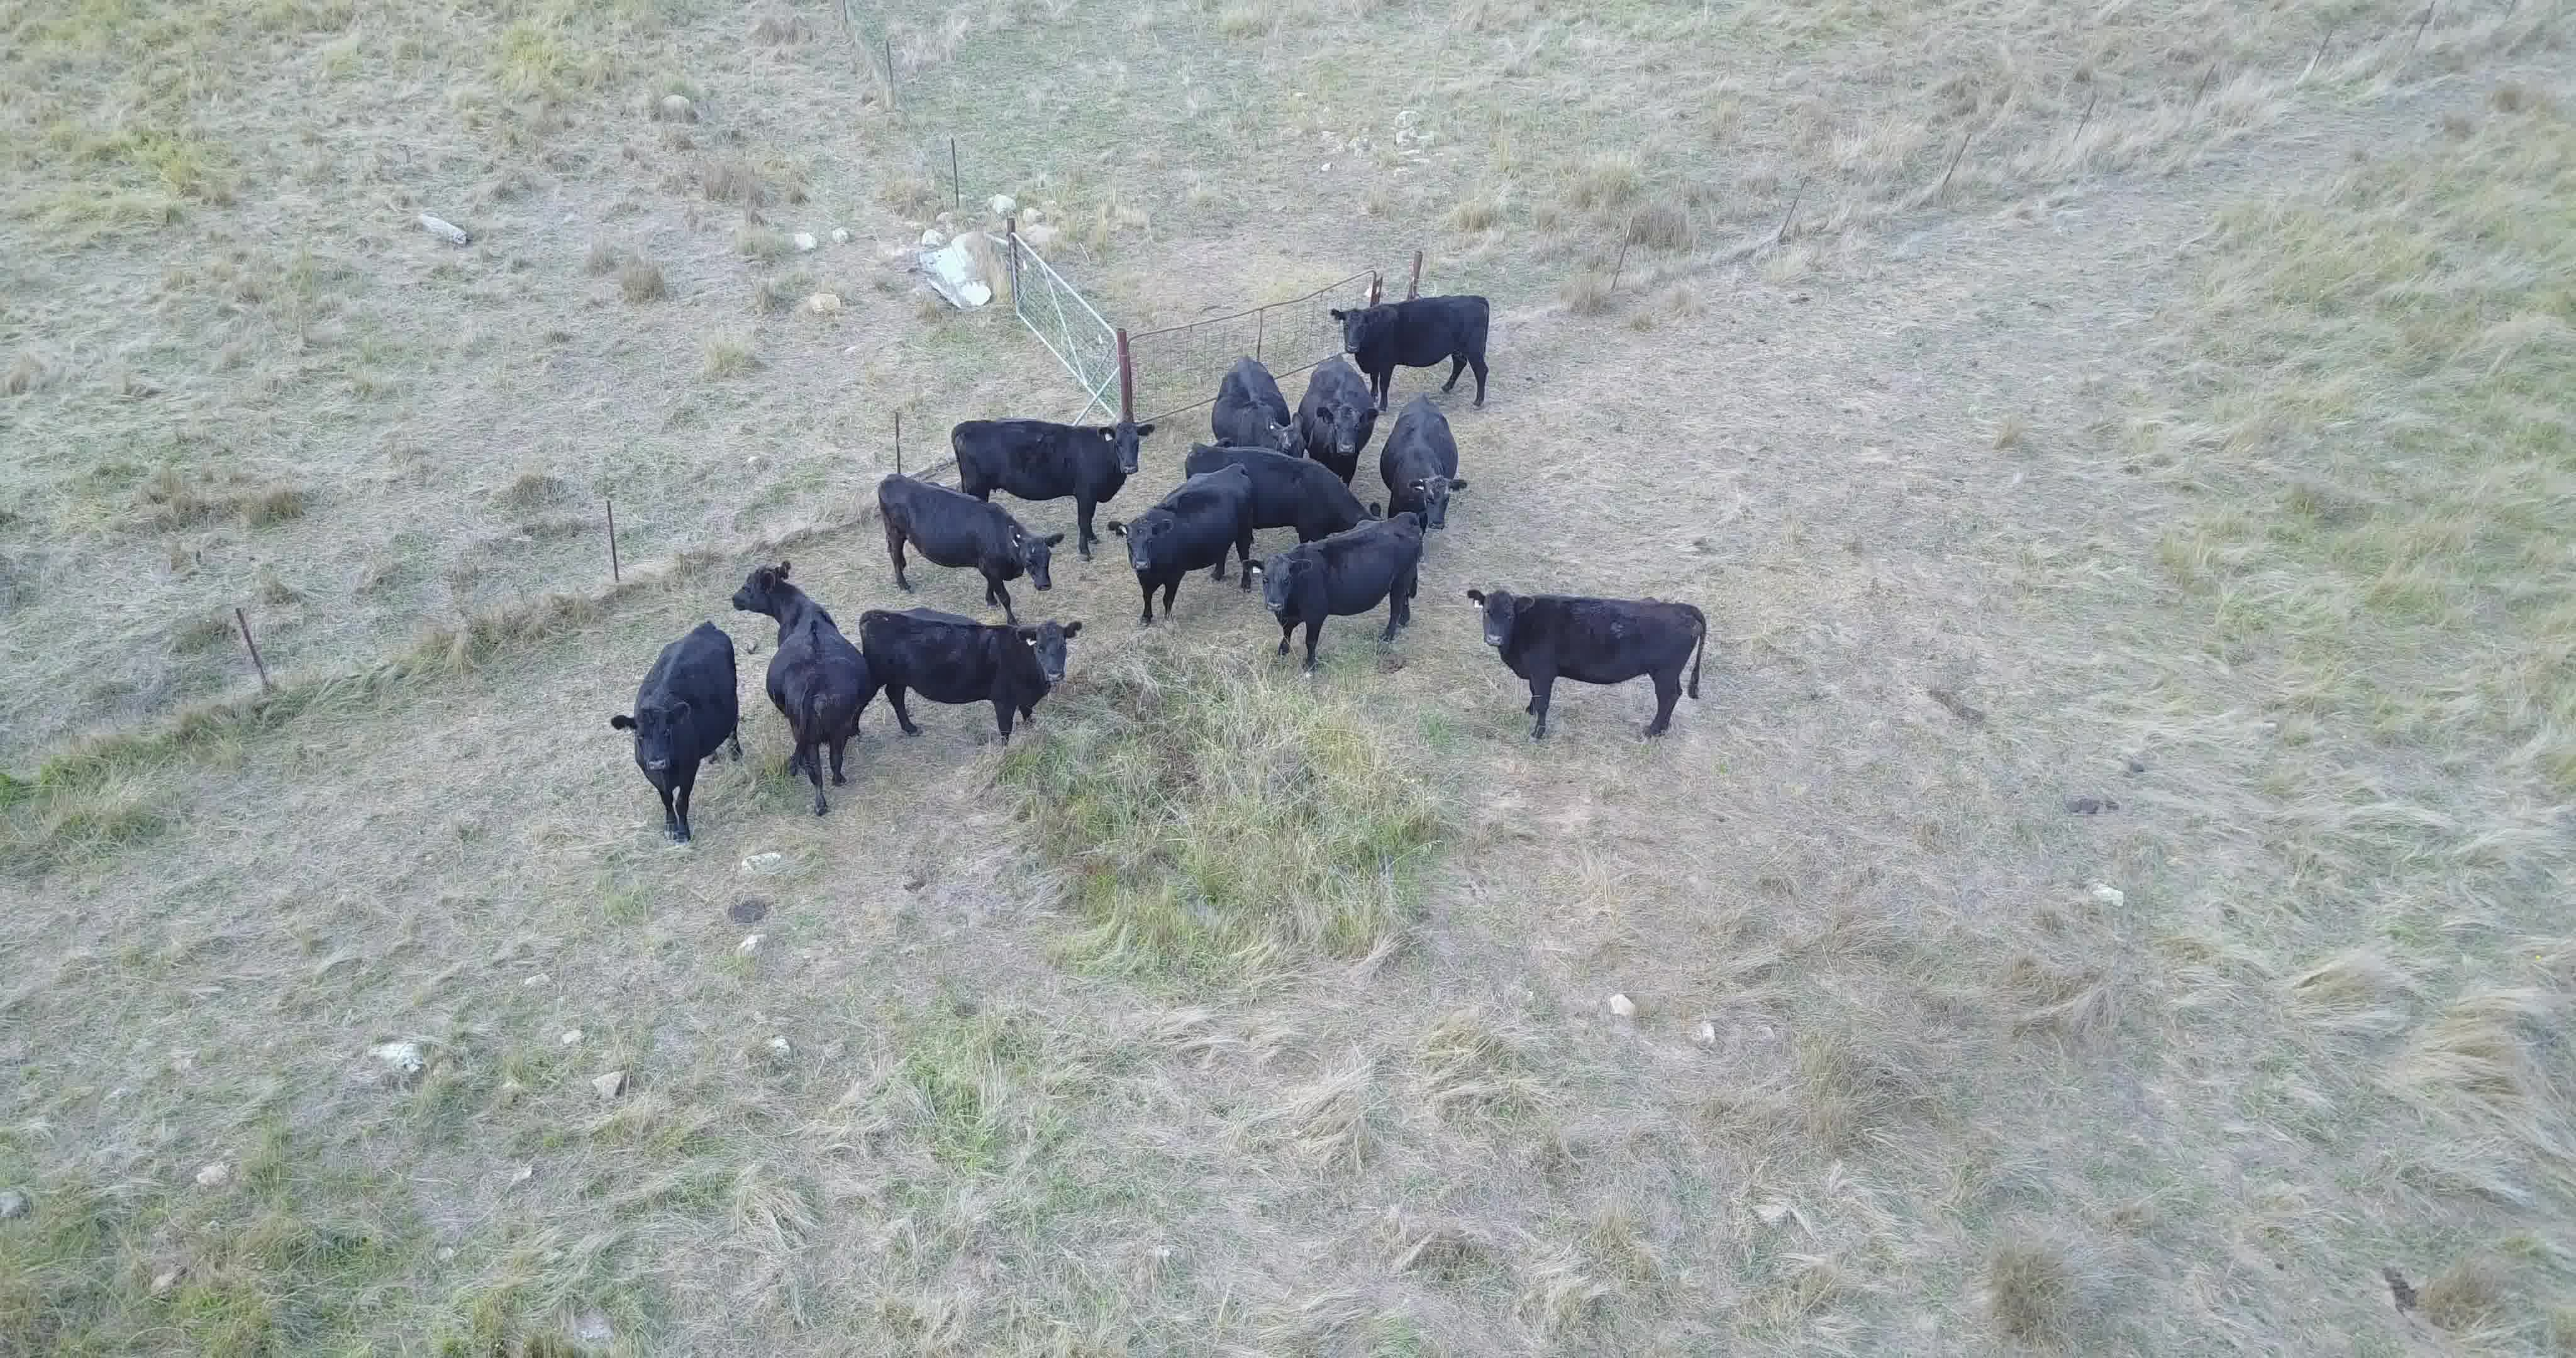cattle: (1470, 578, 1714, 736), (727, 559, 871, 816), (855, 600, 1084, 751), (605, 619, 748, 855), (869, 472, 1077, 625), (1237, 511, 1429, 671), (949, 411, 1152, 561), (1109, 460, 1257, 630), (1327, 295, 1506, 412), (1377, 394, 1469, 530), (1210, 356, 1307, 469), (1305, 353, 1377, 486)
